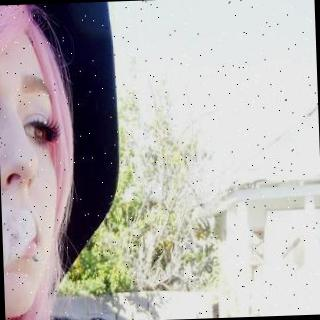smoke: (2, 206, 42, 266)
